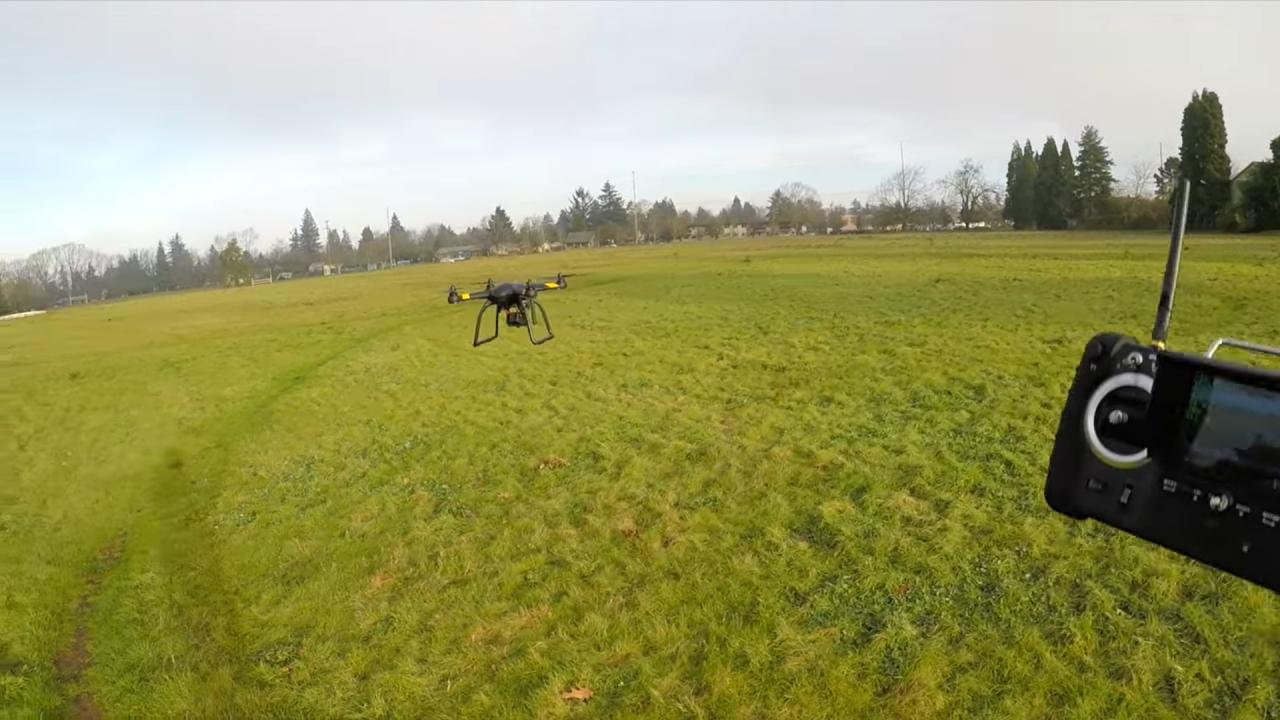Drone: (436, 263, 594, 361)
